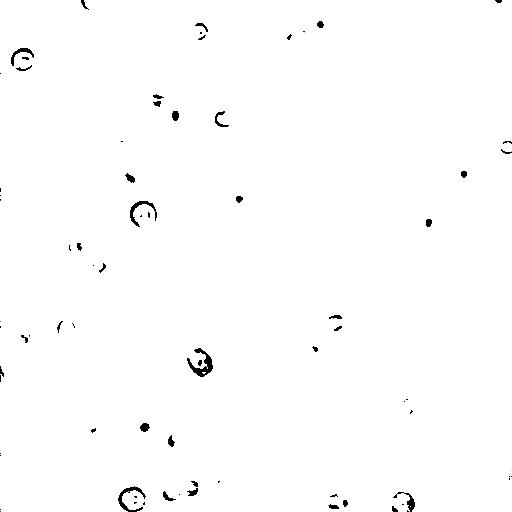micro-algae: (112, 94, 200, 181), (272, 9, 334, 70), (54, 359, 115, 419), (364, 130, 424, 188), (256, 448, 316, 506), (1, 0, 43, 69), (166, 438, 214, 488), (460, 465, 512, 511), (66, 211, 111, 252), (430, 0, 485, 32), (383, 390, 425, 428), (159, 93, 194, 137), (187, 332, 224, 370), (112, 160, 150, 194), (77, 249, 116, 281), (298, 330, 331, 366), (99, 328, 132, 361), (320, 484, 357, 512), (104, 117, 137, 148), (128, 197, 159, 230), (85, 40, 117, 71), (209, 468, 240, 500), (373, 427, 404, 459), (129, 412, 160, 443), (450, 158, 480, 189), (186, 347, 214, 377), (279, 26, 307, 54), (117, 486, 147, 512), (307, 11, 335, 38), (9, 47, 37, 72), (147, 438, 176, 462), (67, 231, 93, 257), (81, 412, 106, 439), (415, 211, 442, 234), (389, 490, 417, 512), (320, 312, 348, 333), (15, 327, 38, 352), (260, 95, 284, 118), (56, 318, 77, 340), (159, 483, 181, 502), (212, 109, 233, 128), (189, 22, 209, 41), (114, 1, 141, 15), (482, 0, 511, 12), (183, 480, 202, 498), (166, 433, 185, 450), (229, 192, 249, 206), (79, 0, 102, 12), (445, 79, 462, 95), (499, 139, 512, 155), (35, 0, 57, 7), (1, 366, 7, 383)
